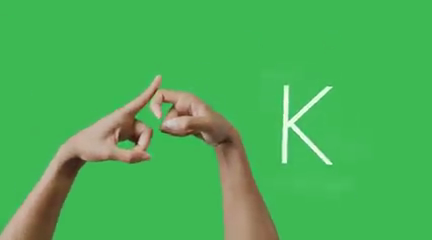K: (58, 70, 250, 174)
